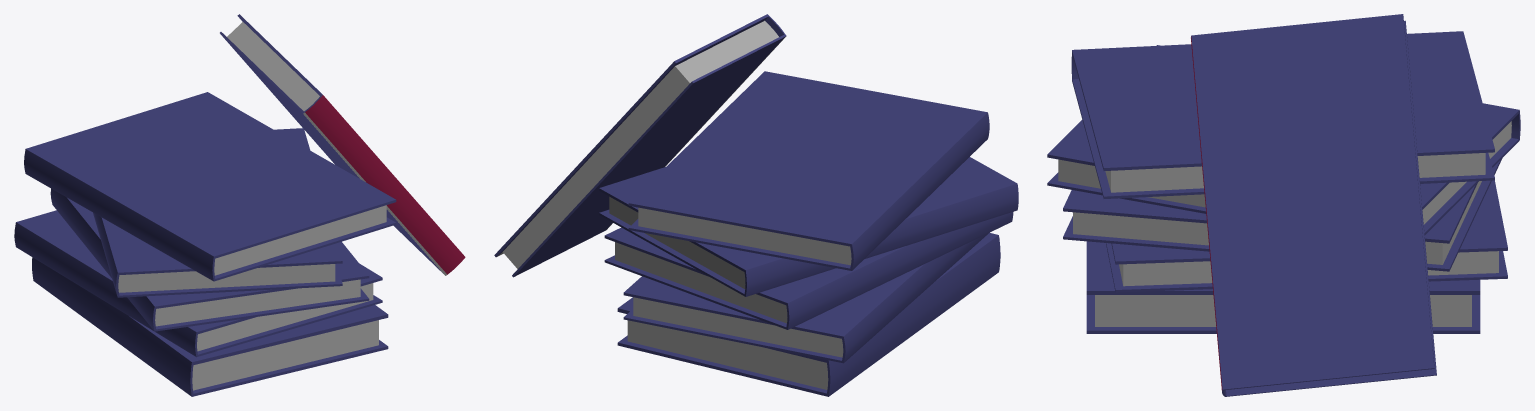
File: BOOKS2.fbx
3 renders of one model, left to right at view 1: azimuth 30°, elevation 25°; view 2: azimuth 150°, elevation 25°; view 3: azimuth 270°, elevation 25°, orthographic. The views are drawn at different scales.
Parts seen in each view (by area): view 1: pCube3, pCube7, pCube4, pCube6, pCube2, pCube1; view 2: pCube3, pCube4, pCube7, pCube2, pCube6, pCube1; view 3: pCube4, pCube3, pCube7, pCube1, pCube6, pCube2.
Part boxes in pixels (<box>): pCube3: <box>24,92,396,281</box>; pCube7: <box>32,257,388,396</box>; pCube4: <box>220,14,465,275</box>; pCube6: <box>14,210,382,357</box>; pCube2: <box>93,128,342,297</box>; pCube1: <box>50,188,369,331</box>; pCube3: <box>628,71,989,270</box>; pCube4: <box>494,14,786,277</box>; pCube7: <box>617,232,1000,396</box>; pCube2: <box>599,157,1018,296</box>; pCube6: <box>623,233,988,363</box>; pCube1: <box>604,211,1013,329</box>; pCube4: <box>1191,14,1436,396</box>; pCube3: <box>1071,31,1494,198</box>; pCube7: <box>1086,241,1480,333</box>; pCube1: <box>1063,158,1502,271</box>; pCube6: <box>1106,180,1507,292</box>; pCube2: <box>1047,45,1520,235</box>.
Size of the model in its own units: 3.23 by 2.02 by 2.82.
